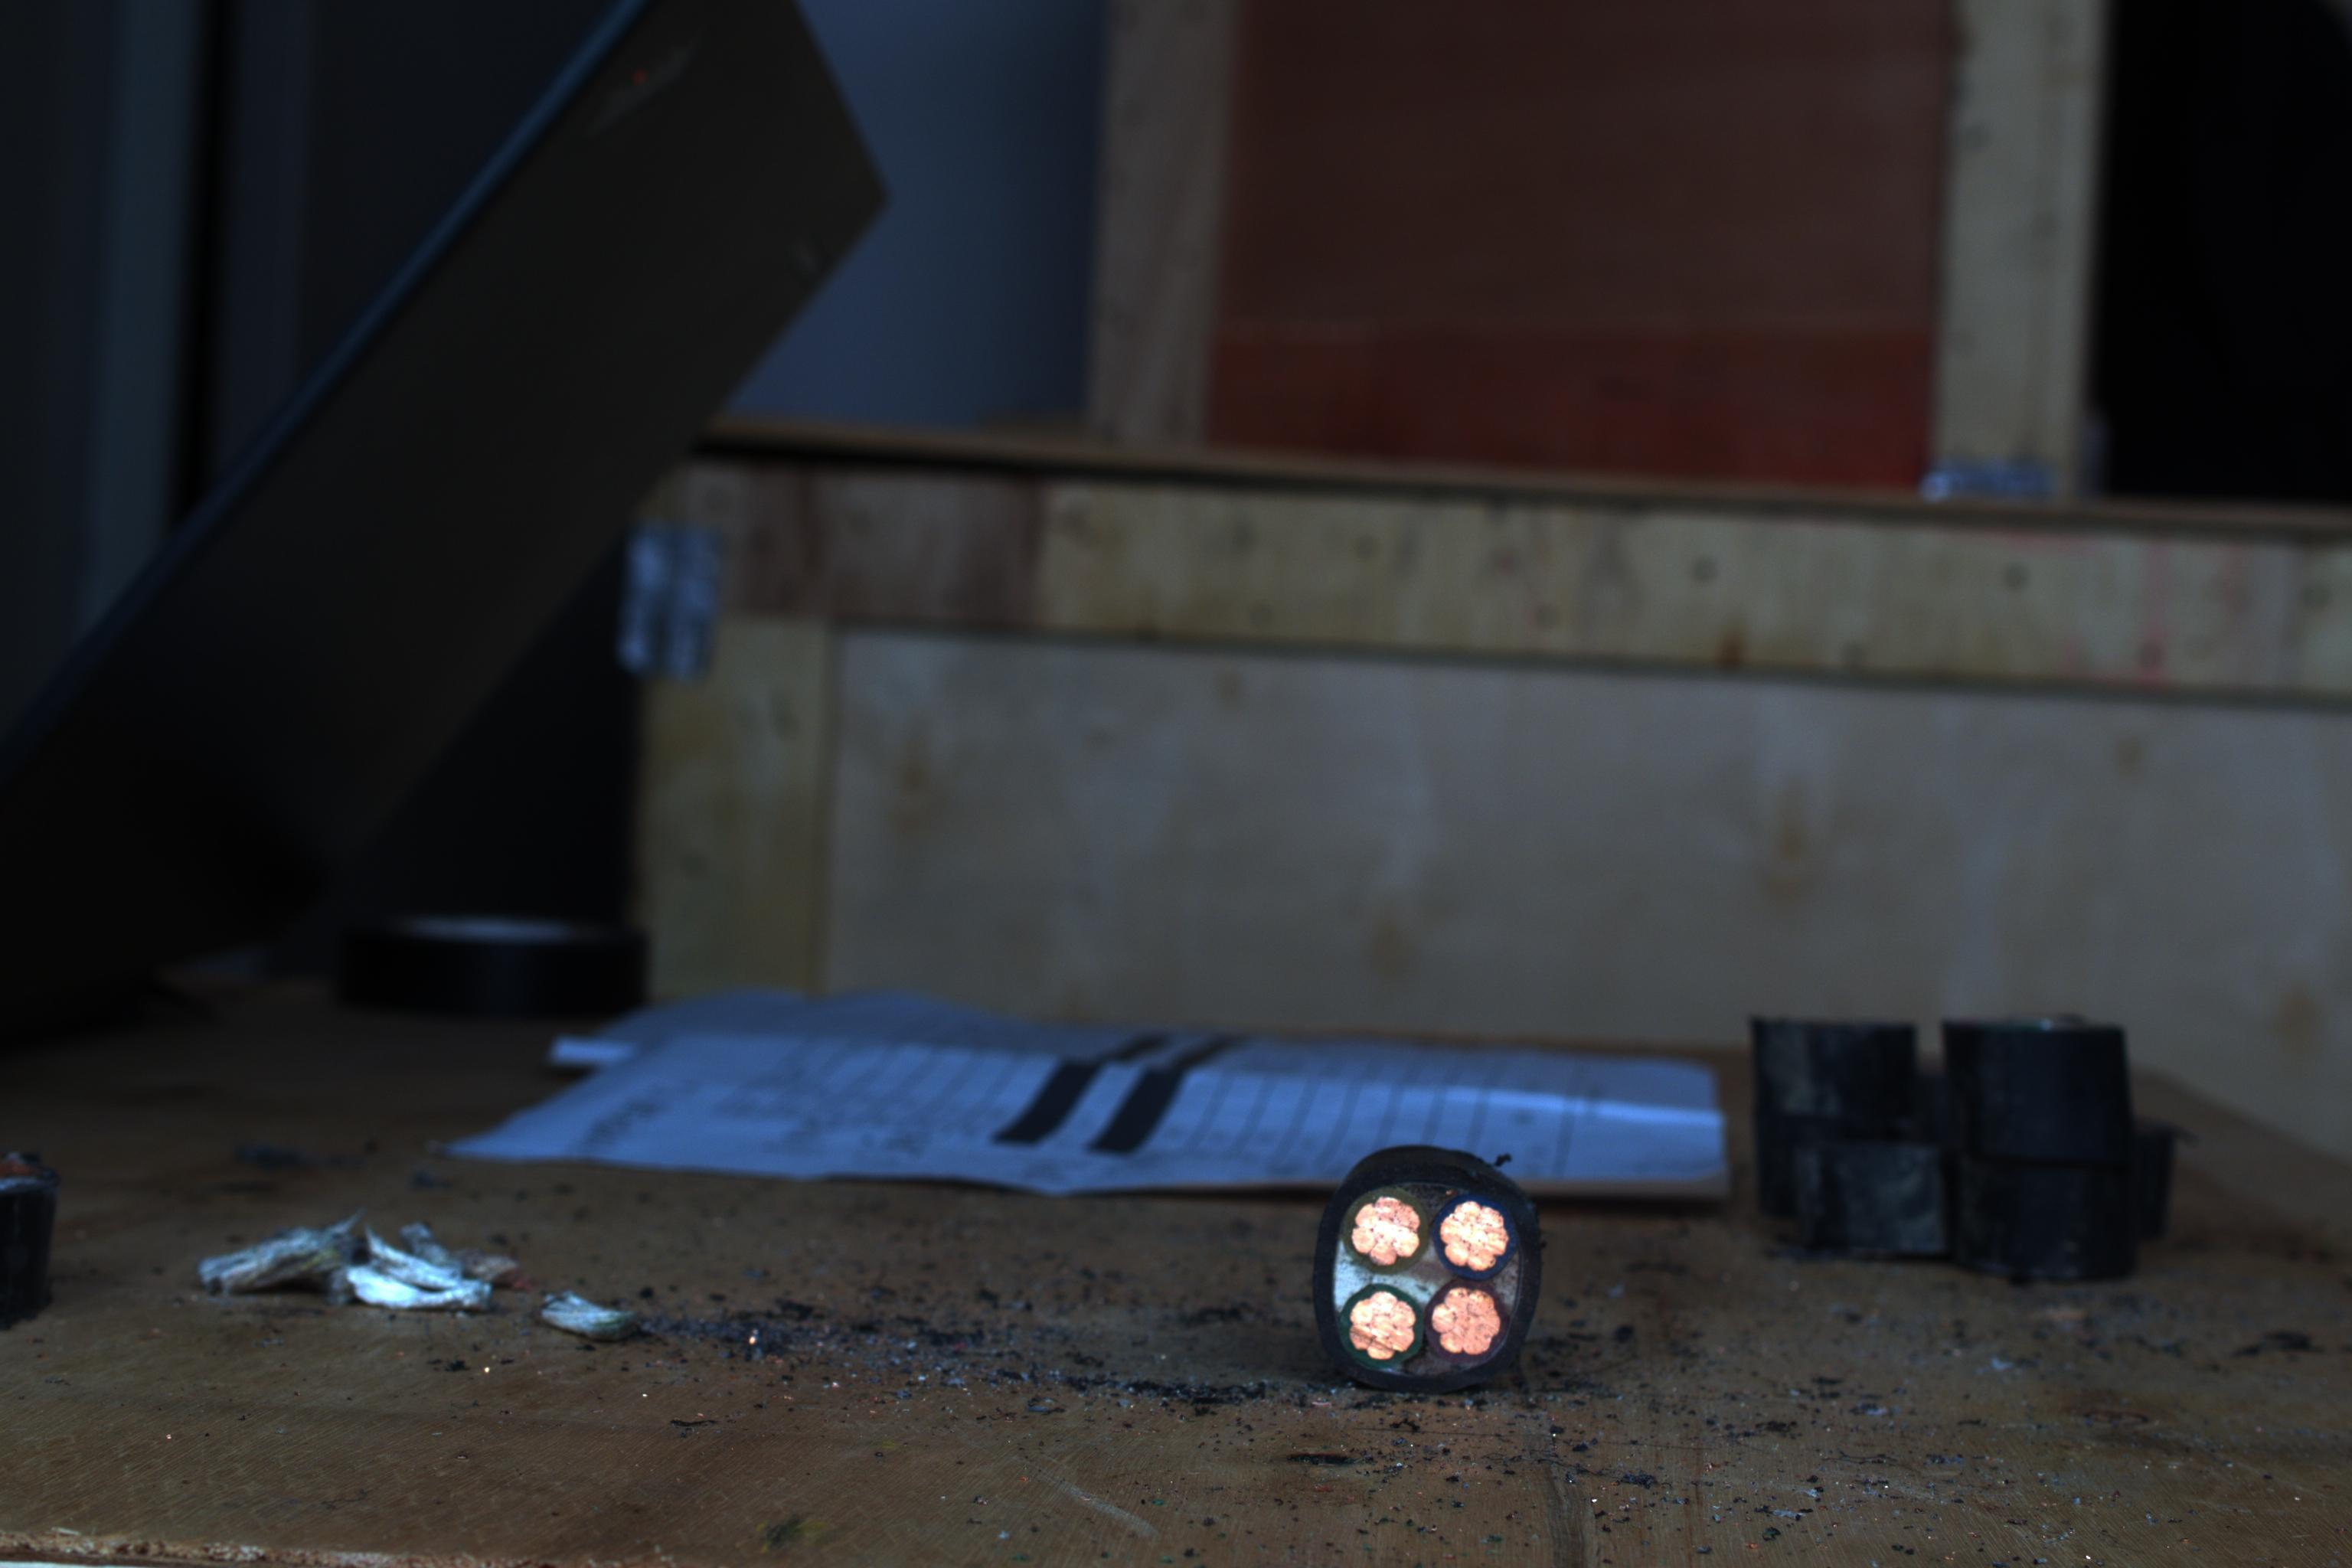YJV_0.6_1kV_4x35: (1318, 1158, 1535, 1398)
